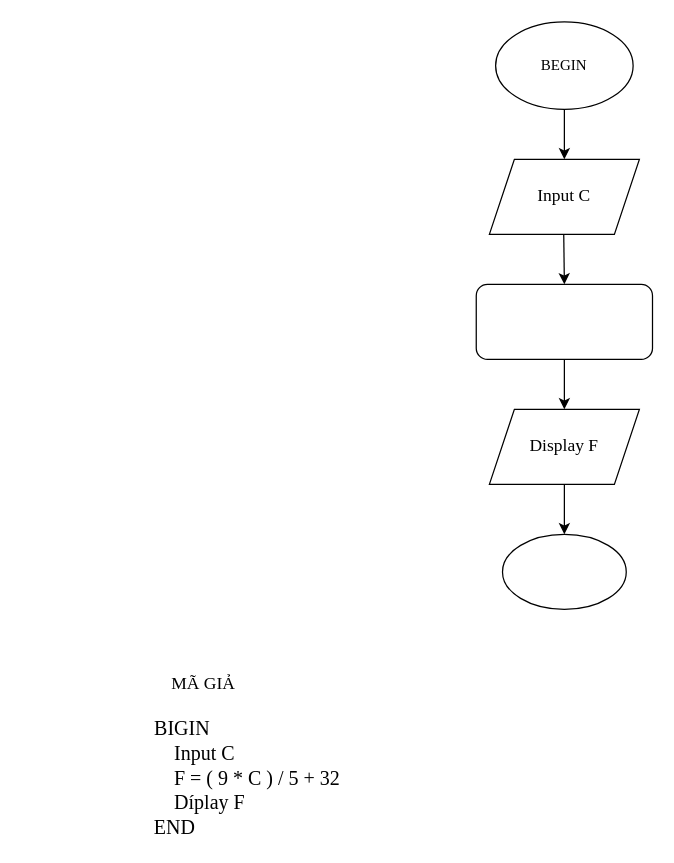
The diagram is 674 pixels wide and 863 high, and some of its shapes have lost their labels. The shapes that lost their labels are listed below. From the top down, each one's centre as x and y in pixels, then its label:
At [563,321]: "F = ( 9 * C ) / 5 + 32".
At [563,571]: "END".
